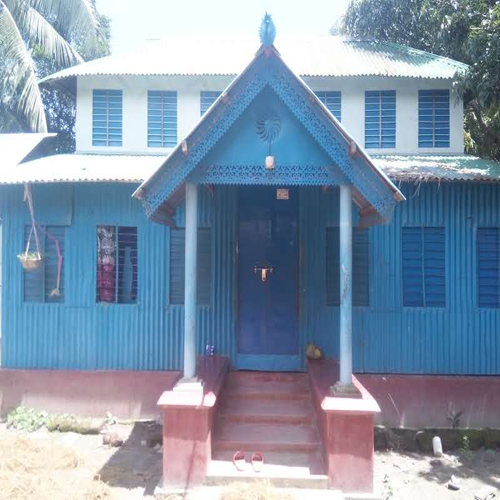Tin-shade House: (10, 22, 486, 384)
